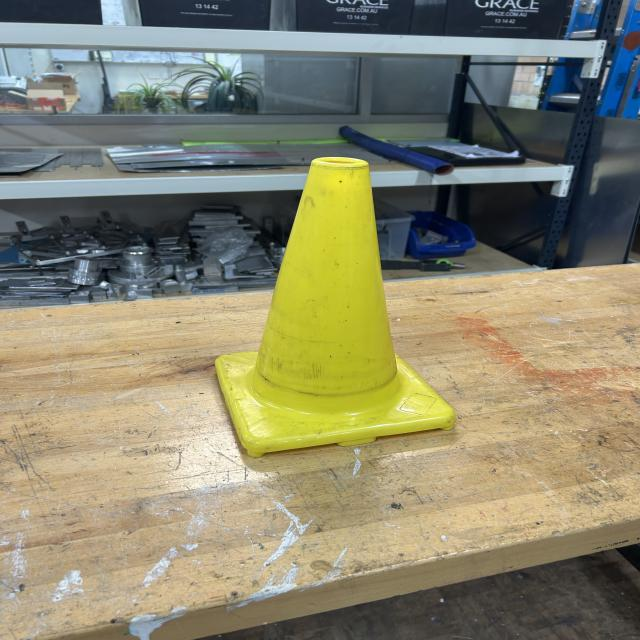yellow_cone: (213, 158, 456, 454)
